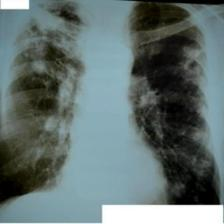tuberculosis: (0, 1, 220, 207)
